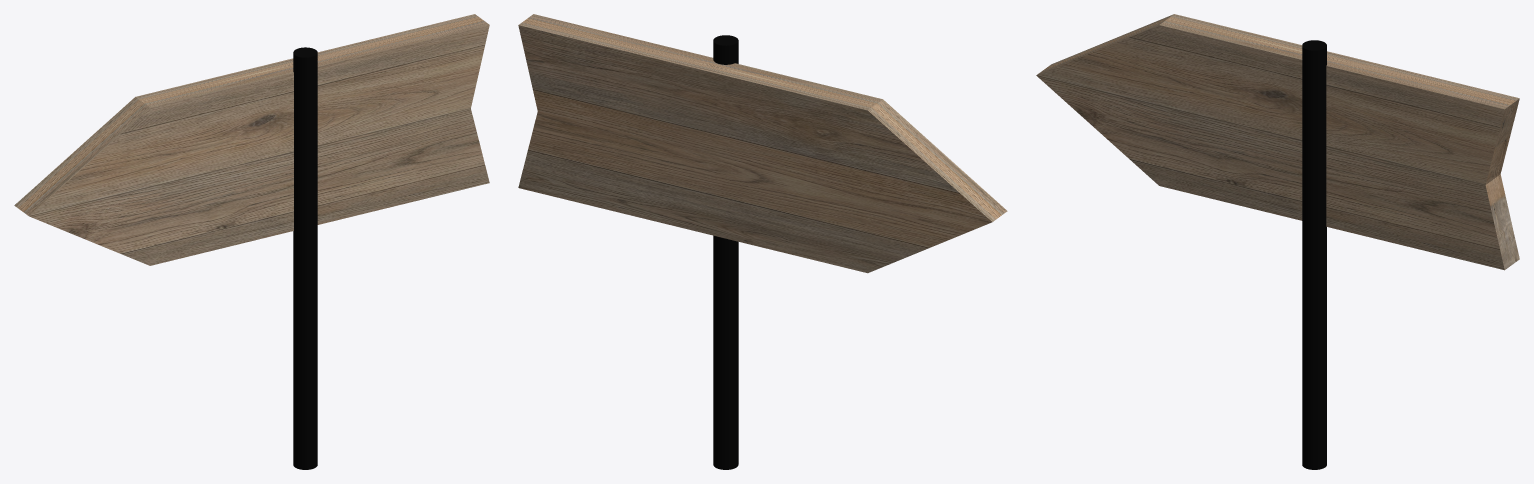
Rendered from Waterstill 2.fbx.
The picture shows the model from 3 angles, left to right: view 1: azimuth 30°, elevation 25°; view 2: azimuth 150°, elevation 25°; view 3: azimuth 330°, elevation 25°; orthographic projection. The views are drawn at different scales.
Parts seen in each view (by area): view 1: Cube, Cylinder; view 2: Cube, Cylinder; view 3: Cube, Cylinder.
Boxes of the visible parts, x1,y1,x2,y2 form: Cube: (14, 14, 489, 265); Cylinder: (293, 47, 317, 469); Cube: (518, 14, 1007, 273); Cylinder: (713, 35, 738, 469); Cube: (1036, 14, 1519, 270); Cylinder: (1302, 40, 1326, 469).
Bounding box in the file's own units: 3589 × 3068 × 301.
2 materials, 1 textured.
